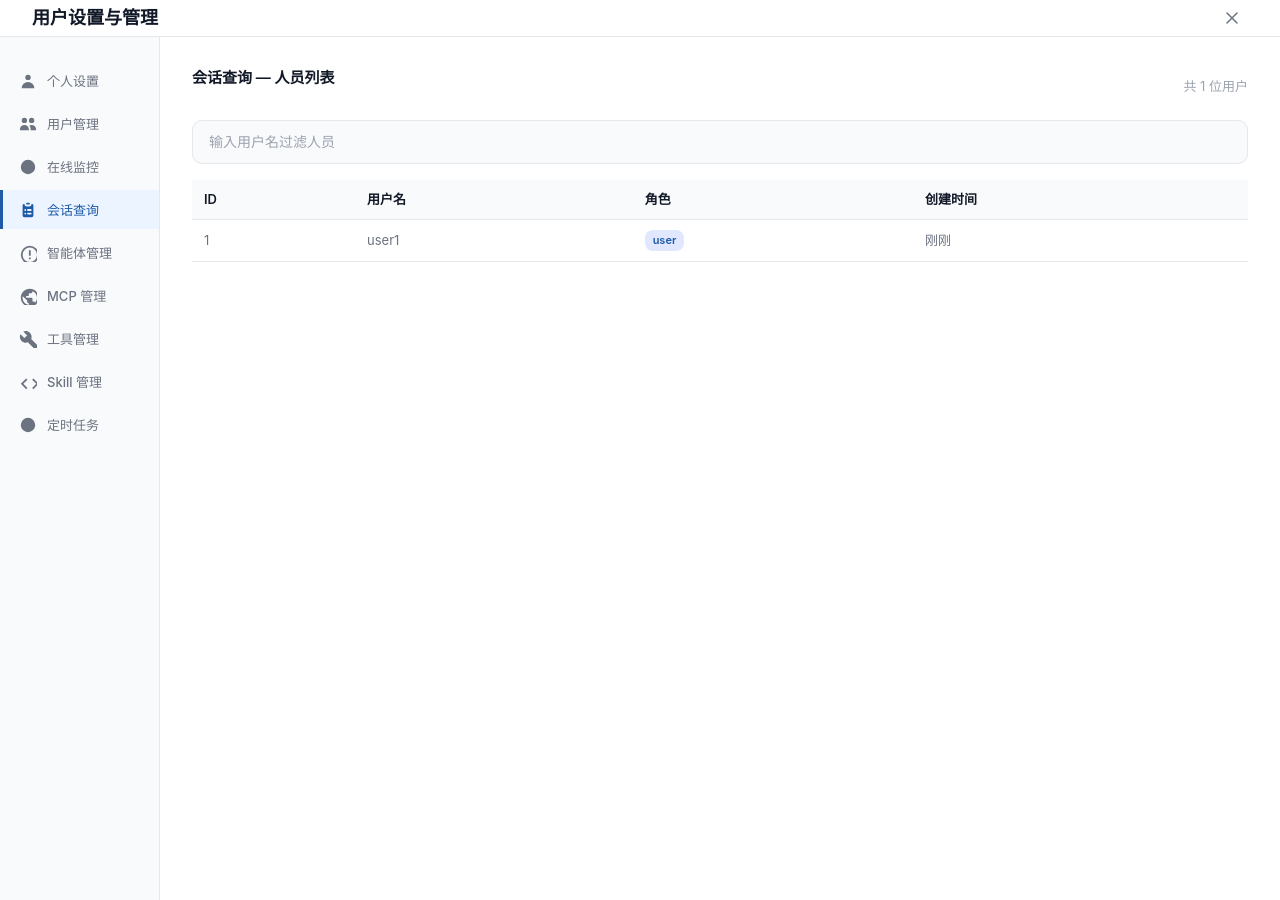
Test: UserSettingsDialog 历史会话弹窗 - 子智能体抽屉事件转发 + 居中布局 › test_history_dialog_subagent_click_opens_local_drawer 历史会话弹窗内 SubAgentCard 点击 → 就地打开 SubAgentDrawer（不再向外冒泡）
The width and height of the screenshot is (1280, 900).
Click the row with class "clickable-row" at (720, 241), box [192, 220, 1248, 261]
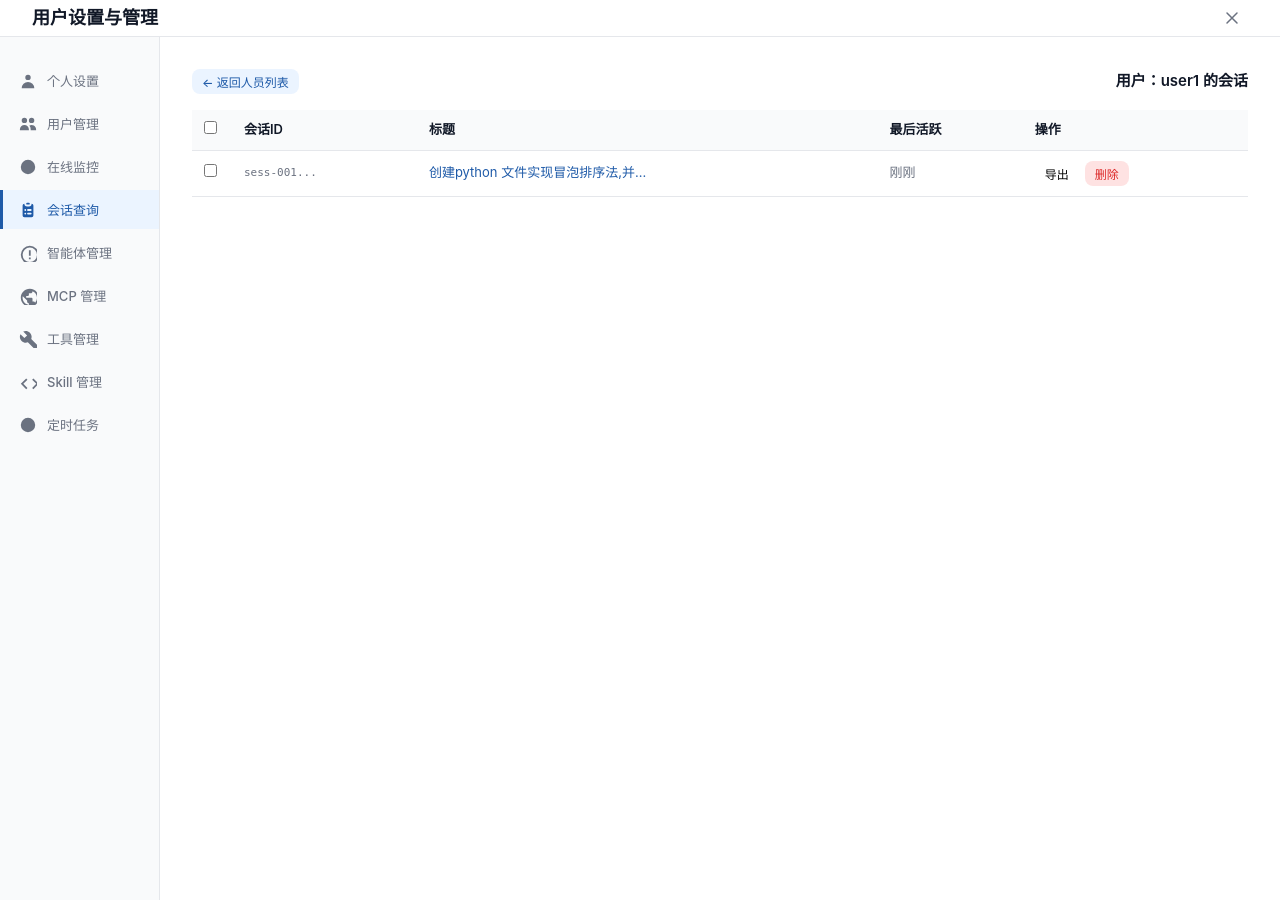
Result: the cell with class "clickable" is shown
Click the cell with class "clickable" at (647, 173), box [417, 150, 878, 196]
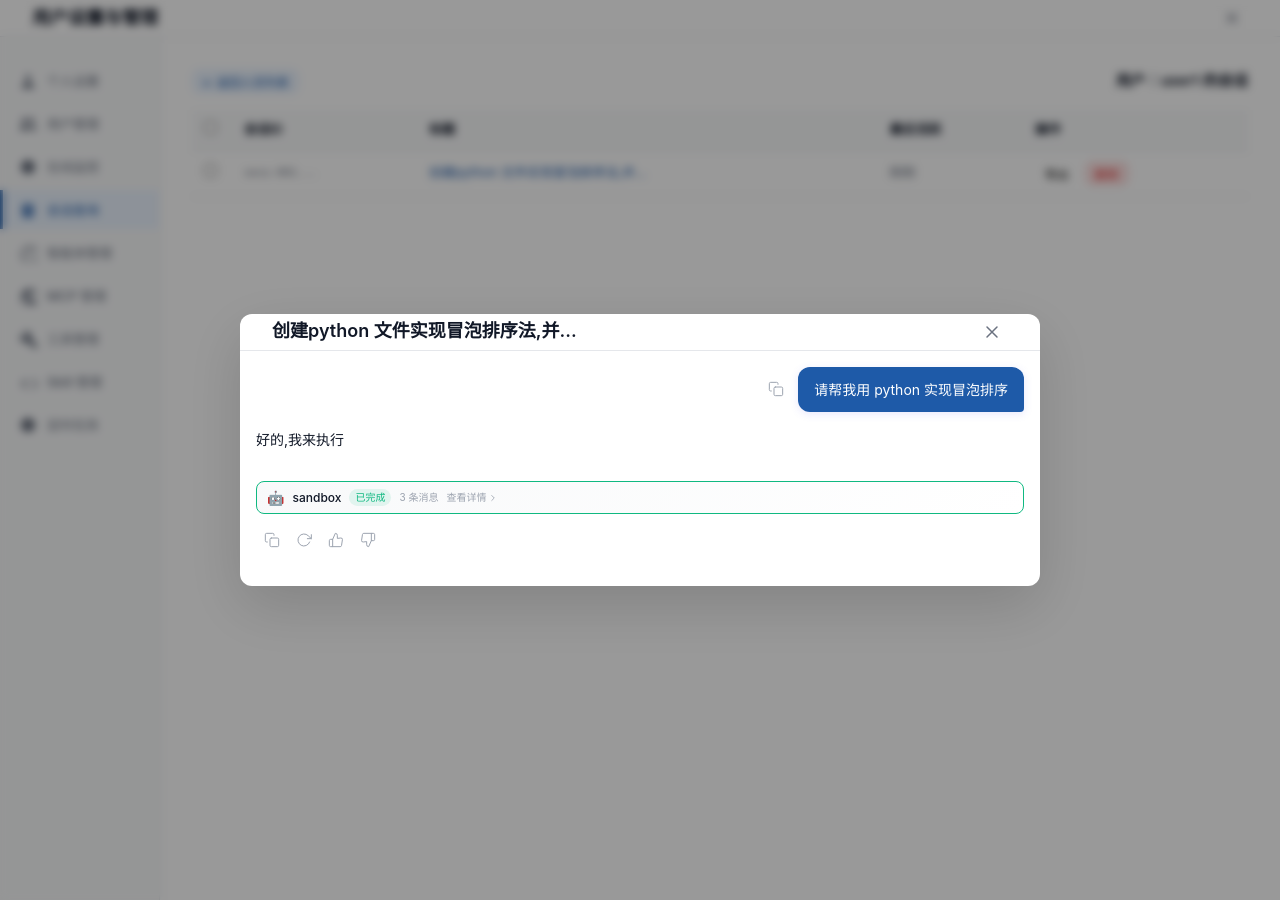
Result: the element with class "history-dialog-card" is shown at [240, 314, 1040, 586]
